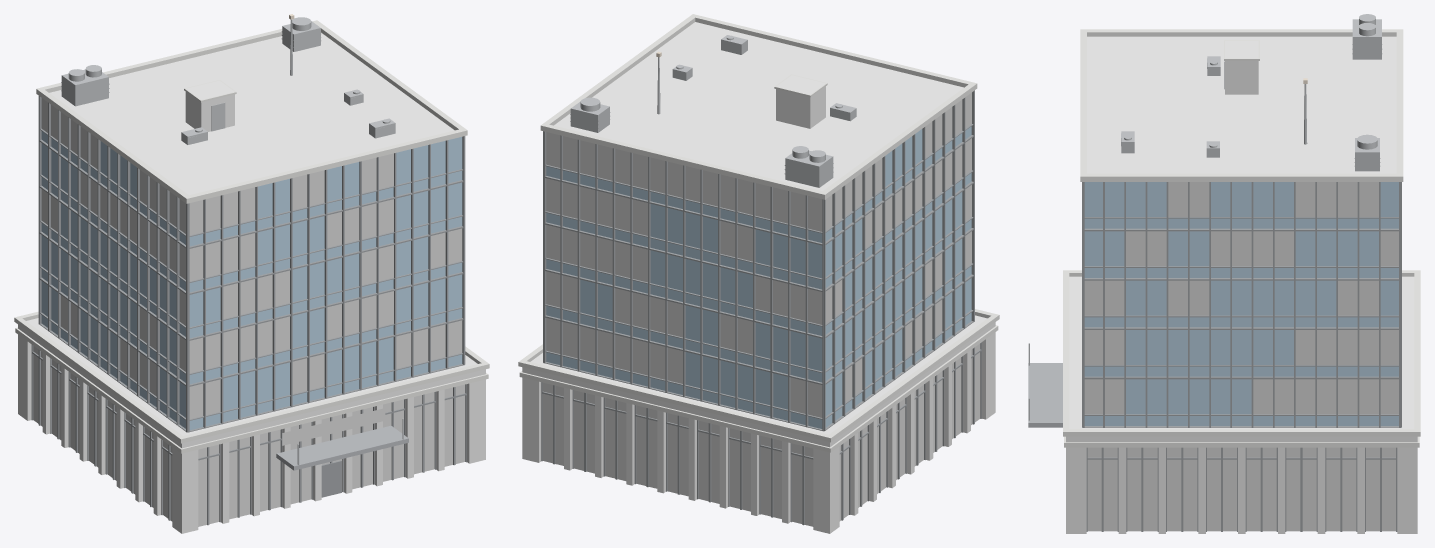
Rendered from office_w90f7.glb.
3 renders of one model, left to right at view 1: azimuth 30°, elevation 25°; view 2: azimuth 150°, elevation 25°; view 3: azimuth 270°, elevation 25°, orthographic. The views are drawn at different scales.
Parts seen in each view (by area): view 1: office_w90f7_Glass, office_w90f7_WindowsLit, office_w90f7_Frames, office_w90f7_Roof, office_w90f7_Walls2, office_w90f7_Trim, office_w90f7_Details, office_w90f7_Accent, office_w90f7_Brand; view 2: office_w90f7_WindowsLit, office_w90f7_Frames, office_w90f7_Glass, office_w90f7_Roof, office_w90f7_Walls2, office_w90f7_Trim, office_w90f7_Details; view 3: office_w90f7_WindowsLit, office_w90f7_Glass, office_w90f7_Roof, office_w90f7_Frames, office_w90f7_Trim, office_w90f7_Walls2, office_w90f7_Details, office_w90f7_Accent.
Boxes of the visible parts, box(x1,y1,x2,y2) form: office_w90f7_Glass: box(41, 131, 462, 430); office_w90f7_WindowsLit: box(33, 98, 465, 526); office_w90f7_Frames: box(31, 96, 466, 525); office_w90f7_Roof: box(26, 32, 477, 435); office_w90f7_Walls2: box(18, 92, 485, 533); office_w90f7_Trim: box(14, 20, 489, 453); office_w90f7_Details: box(61, 17, 403, 464); office_w90f7_Accent: box(276, 425, 408, 470); office_w90f7_Brand: box(282, 408, 385, 445); office_w90f7_WindowsLit: box(543, 92, 980, 526); office_w90f7_Frames: box(541, 90, 981, 525); office_w90f7_Glass: box(546, 126, 971, 428); office_w90f7_Roof: box(530, 22, 987, 434); office_w90f7_Walls2: box(522, 86, 995, 533); office_w90f7_Trim: box(518, 14, 999, 452); office_w90f7_Details: box(570, 35, 856, 187); office_w90f7_WindowsLit: box(1084, 182, 1398, 531); office_w90f7_Glass: box(1084, 182, 1398, 425); office_w90f7_Roof: box(1069, 36, 1414, 429); office_w90f7_Frames: box(1082, 182, 1401, 531); office_w90f7_Trim: box(1063, 29, 1420, 447); office_w90f7_Walls2: box(1066, 61, 1417, 533); office_w90f7_Details: box(1028, 14, 1382, 420); office_w90f7_Accent: box(1028, 363, 1062, 427).
Size of the model in its own units: 91.4 by 108 by 93.7.
